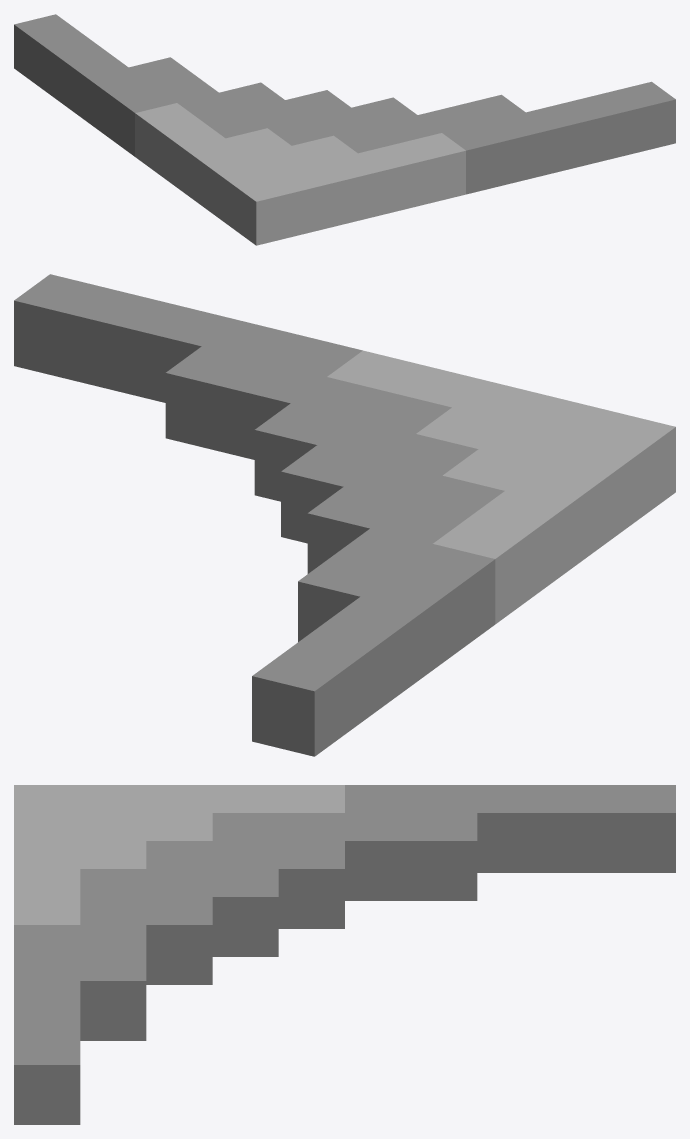
File: path_gray_curve.obj
The picture shows the model from 3 angles, top to bottom: view 1: azimuth 30°, elevation 25°; view 2: azimuth 150°, elevation 25°; view 3: azimuth 270°, elevation 25°; orthographic projection. The views are drawn at different scales.
Bounding box in the file's own units: 1 × 0.1 × 1.
Materials: 1 (1 with a texture image).
